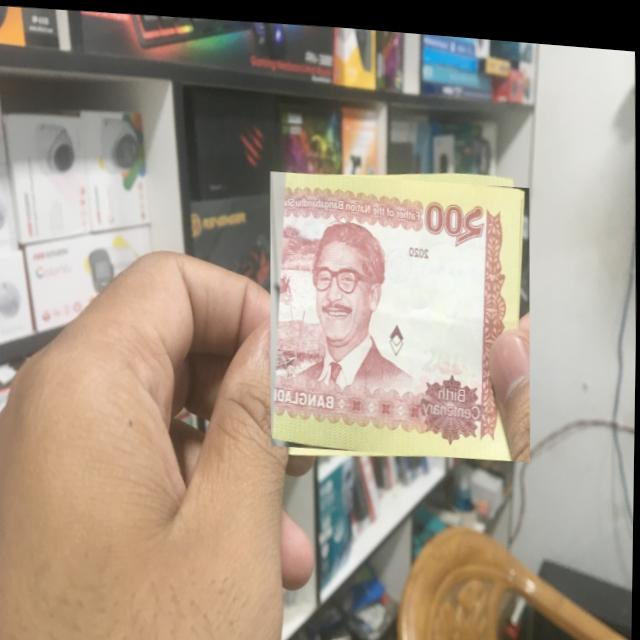Taka: (267, 162, 534, 457)
